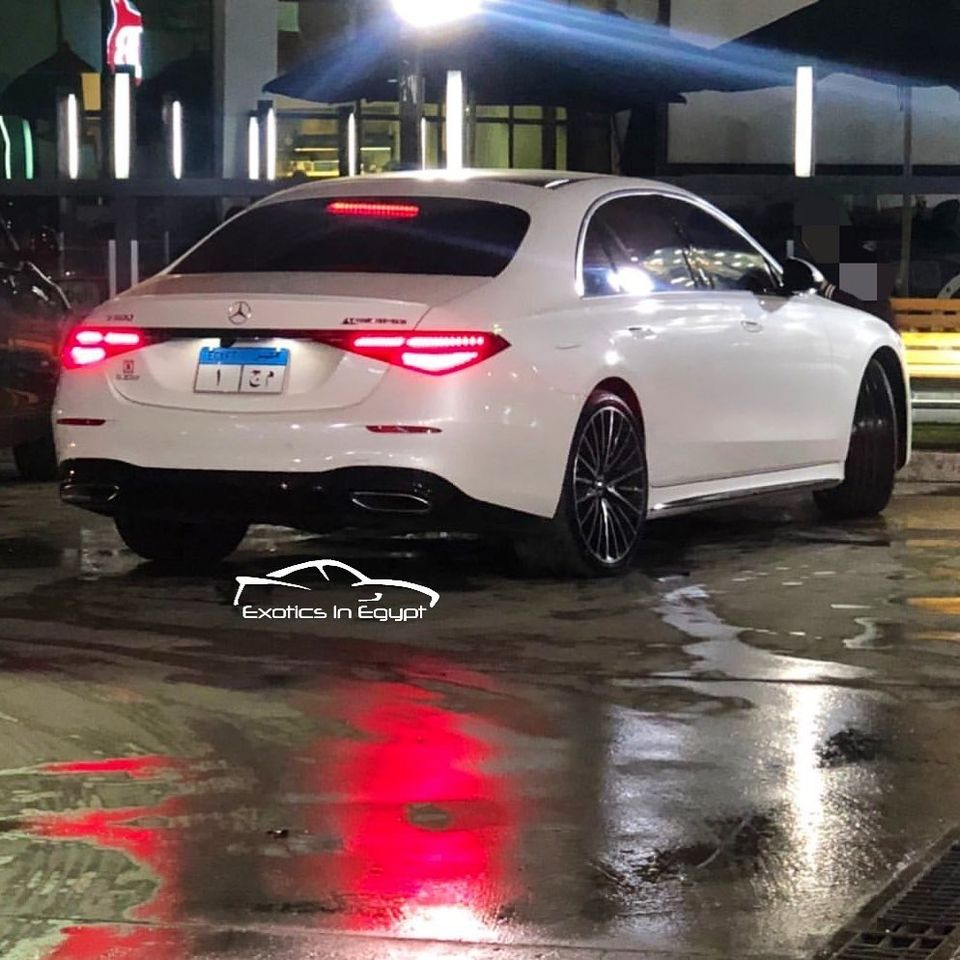carpl: (193, 356, 295, 393)
